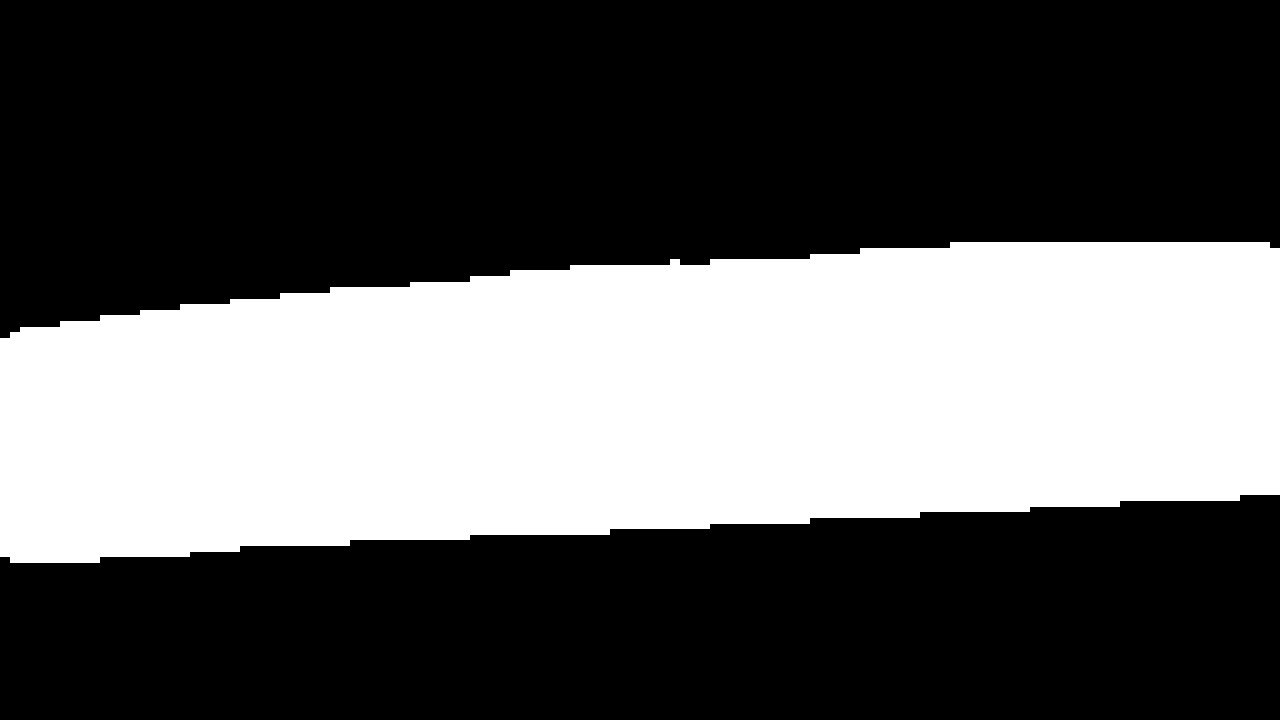Turbine: (0, 228, 1275, 576)
